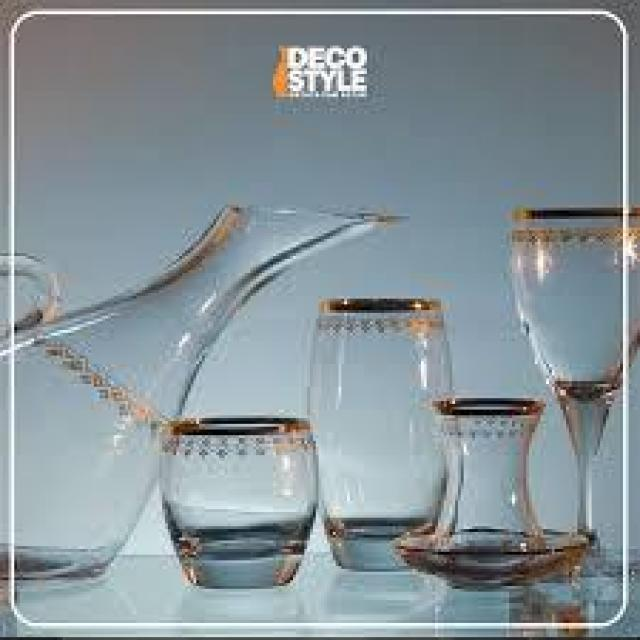glass: (0, 197, 418, 594), (506, 204, 640, 584), (397, 395, 590, 583), (150, 412, 322, 594)
